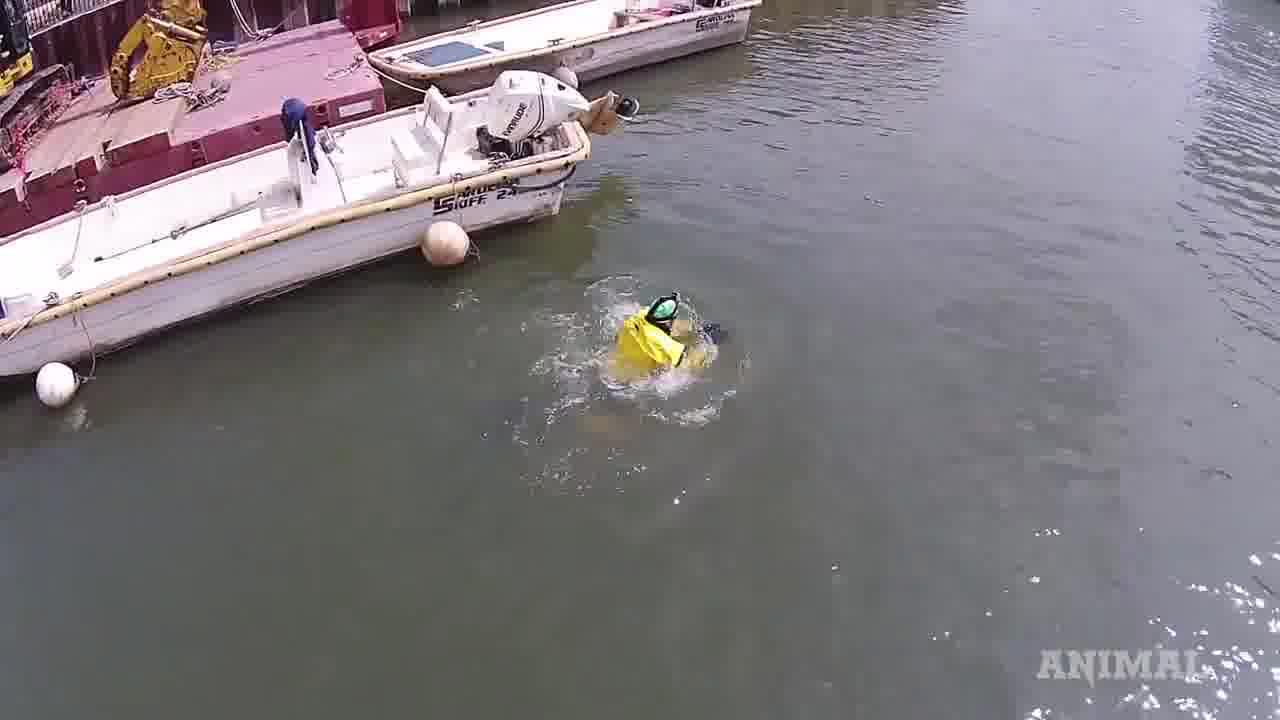swimmer: (619, 274, 716, 372)
